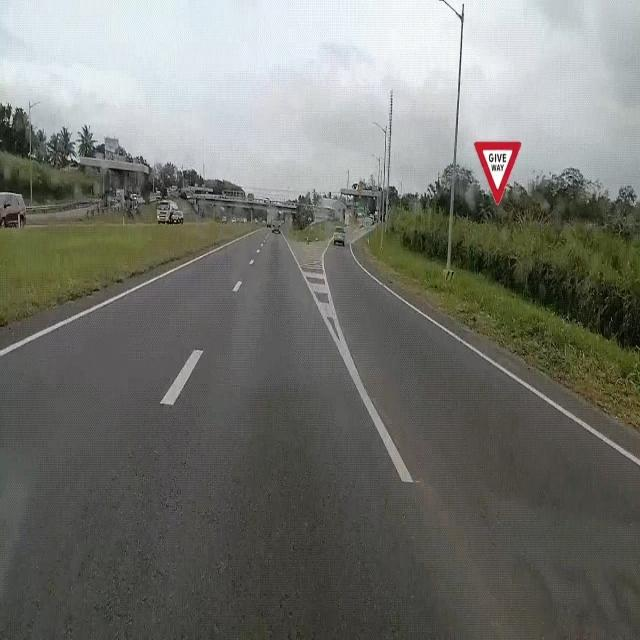Ceder-le-Passage: (471, 132, 528, 220)
